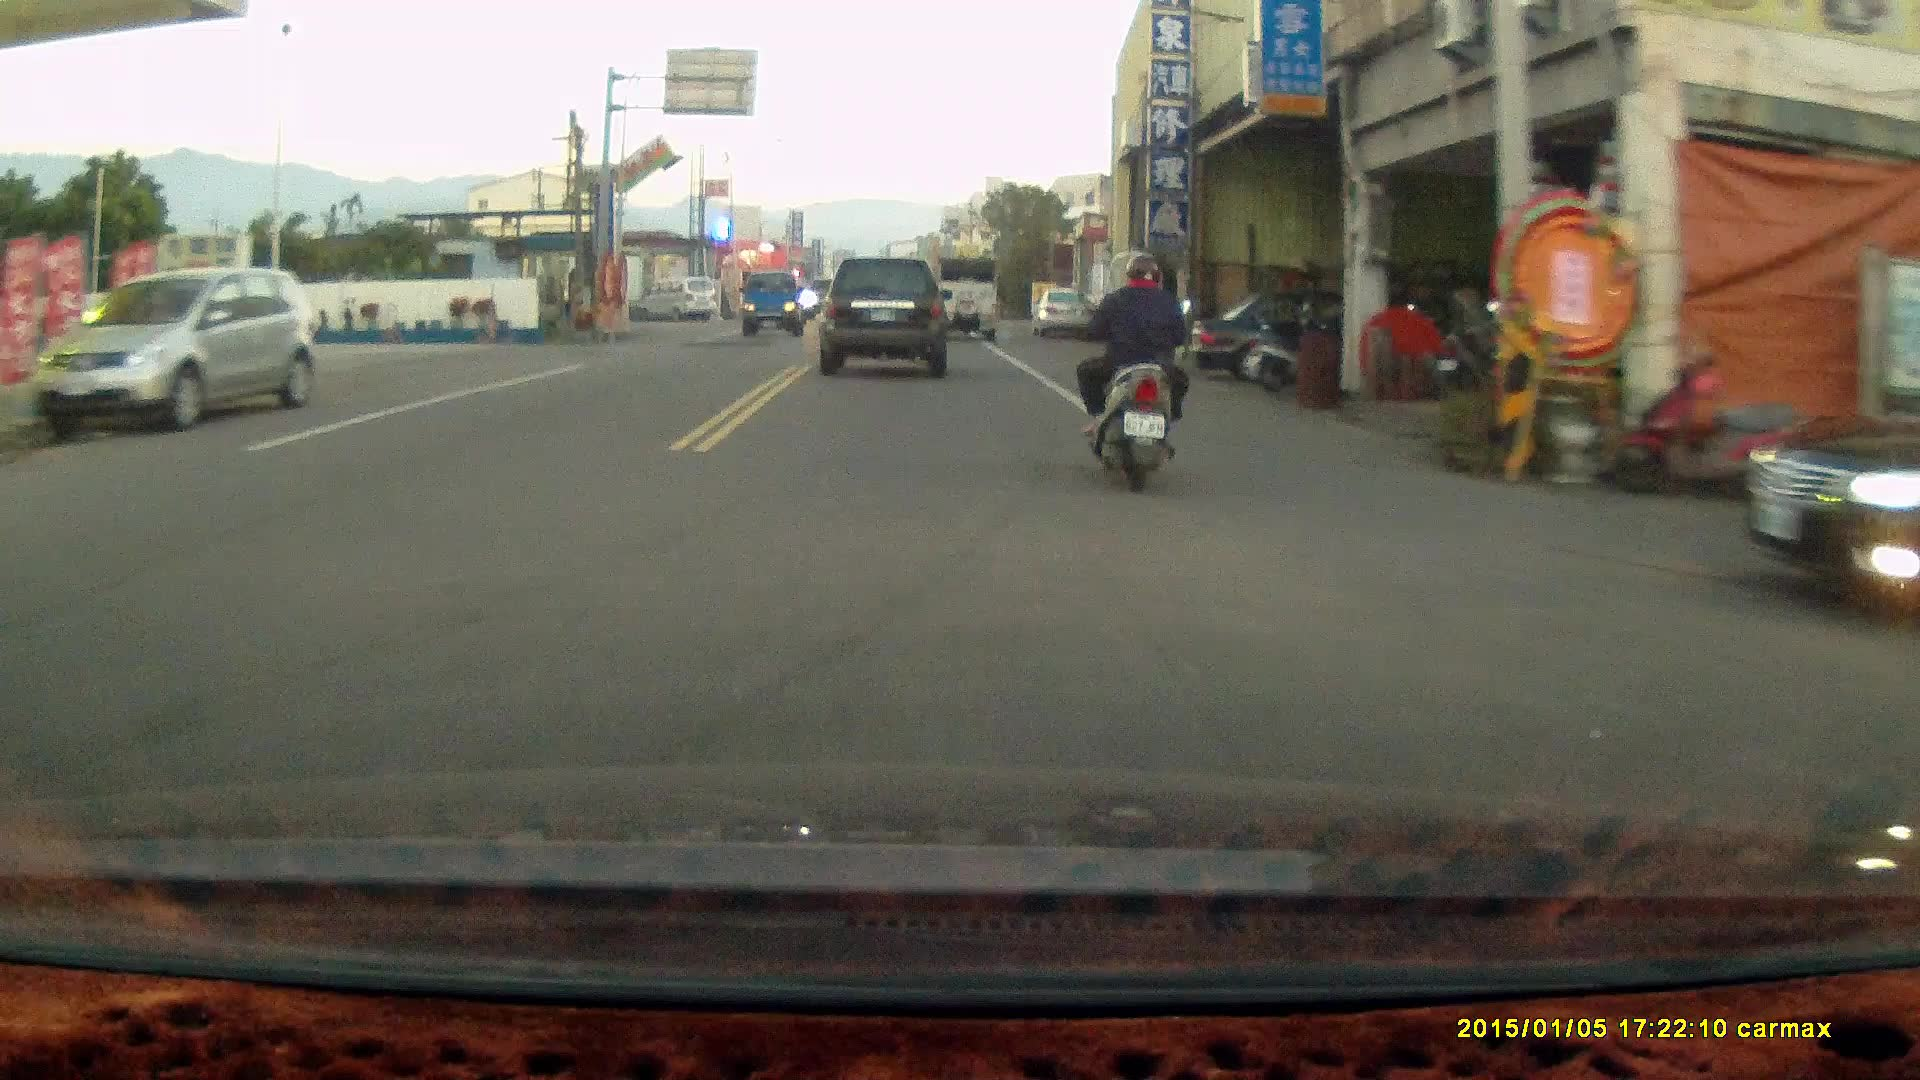rider: (1074, 249, 1188, 491)
vehicle: (30, 269, 319, 431), (1744, 366, 1920, 631), (1185, 288, 1418, 388), (816, 257, 950, 383), (928, 256, 1001, 341), (739, 271, 809, 340), (635, 278, 720, 322), (1033, 286, 1090, 338)
